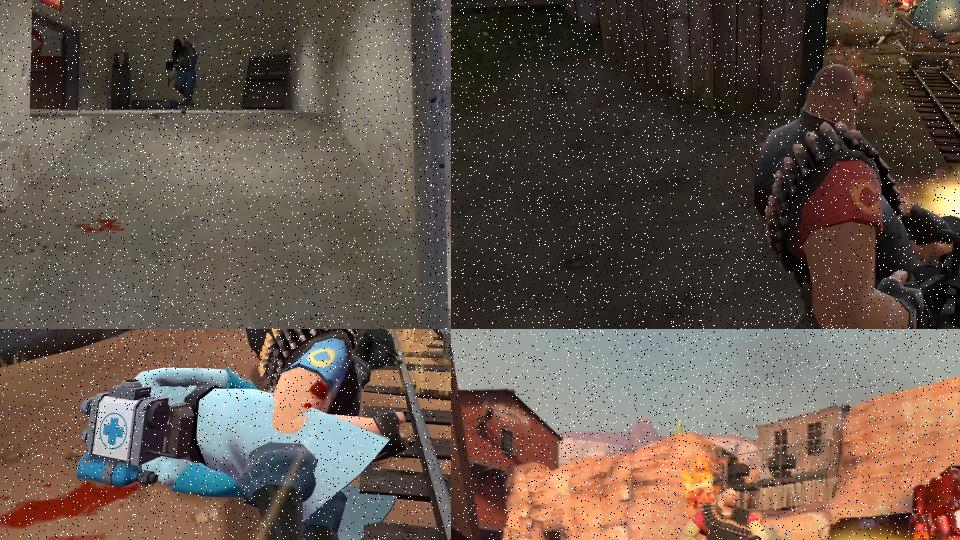Enemy: (75, 365, 399, 540), (750, 62, 960, 329), (241, 329, 412, 439), (677, 487, 809, 540), (895, 464, 960, 540), (165, 37, 200, 115), (874, 0, 919, 52)
